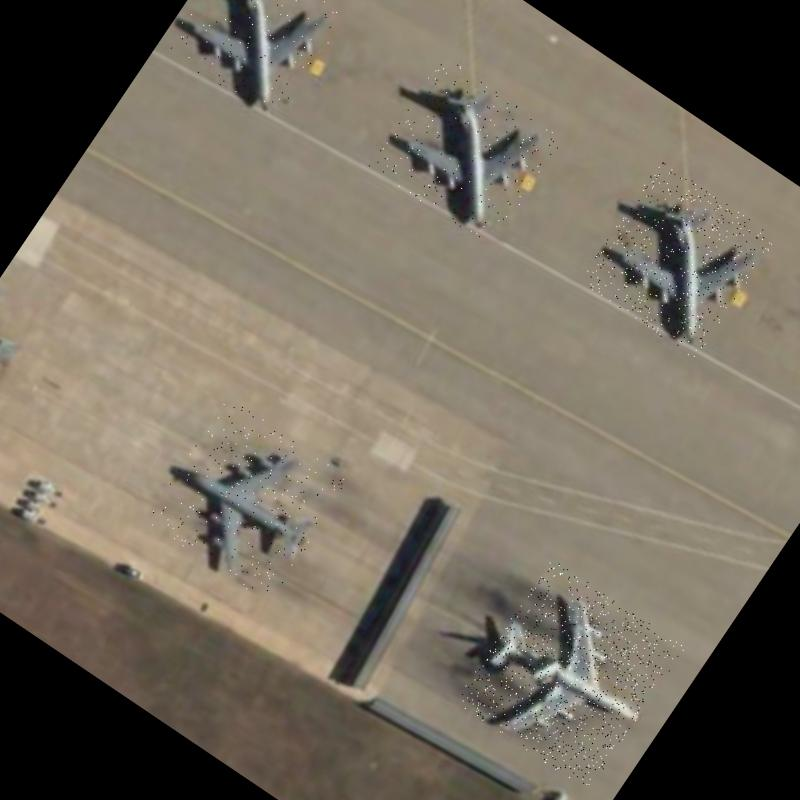A14: (144, 396, 352, 604), (579, 160, 777, 360), (368, 56, 565, 248), (159, 0, 348, 124)
A7: (454, 558, 686, 792)
